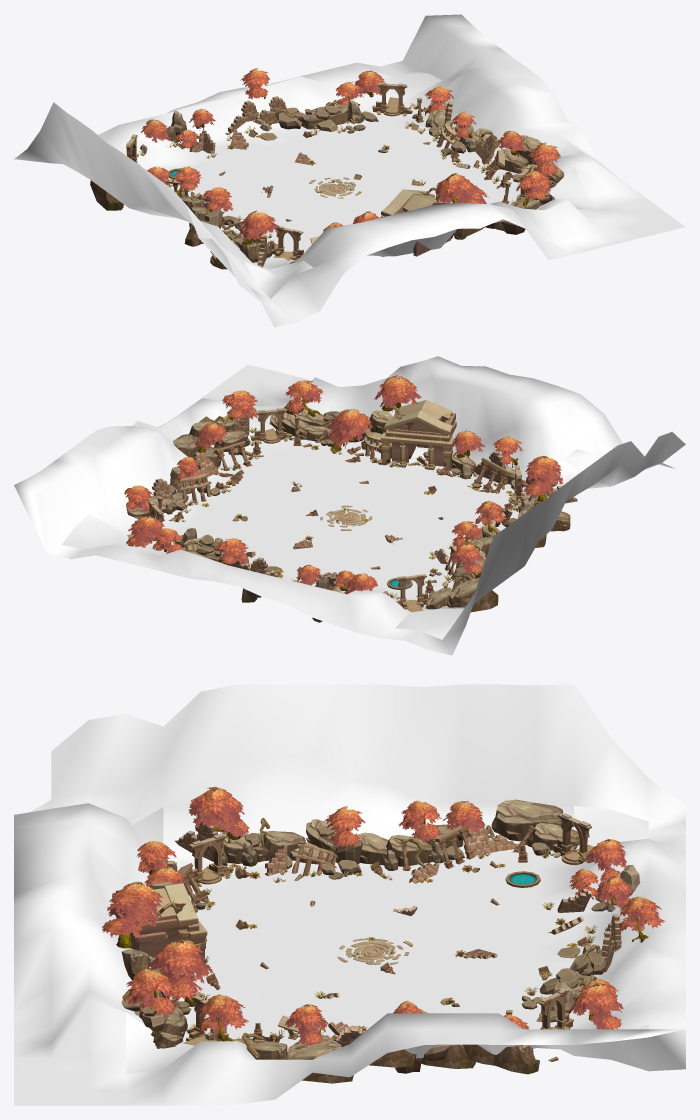
The model's file is YiJi.fbx.
The picture shows the model from 3 angles, top to bottom: view 1: azimuth 30°, elevation 25°; view 2: azimuth 150°, elevation 25°; view 3: azimuth 270°, elevation 25°; orthographic projection. The views are drawn at different scales.
Visible parts, largest first — view 1: YiJi_dixing_01, YiJi_jianzhu_01, YiJi_shu_01 (8), YiJi_shu_01 (1), YiJi_shimen_01 (3), YiJi_shu_02 (9), YiJi_shu_02 (3), YiJi_shimen_01 (2), YiJi_shu_02 (8), YiJi_yuanpan_01, YiJi_shu_02, YiJi_shitou_03 (4) (+3 smaller); view 2: YiJi_dixing_01, YiJi_jianzhu_01, YiJi_shu_01 (1), YiJi_shu_01 (5), YiJi_shu_01 (8), YiJi_shitou_03 (21), YiJi_shu_02 (9), YiJi_shimen_01 (1), YiJi_shu_01 (3), YiJi_shu_02 (3), YiJi_shimen_01 (4), YiJi_shu_01 (9) (+12 smaller); view 3: YiJi_dixing_01, YiJi_jianzhu_01, YiJi_shu_01 (8), YiJi_shu_01 (5), YiJi_shu_01 (1), YiJi_shitou_03 (21), YiJi_shu_02 (9), YiJi_shu_01 (3), YiJi_shu_02 (3), YiJi_shimen_01 (2), YiJi_shimen_01 (4), YiJi_shu_02 (8) (+20 smaller).
Boxes of the visible parts, <box> form: YiJi_dixing_01: <box>14,14,685,327</box>; YiJi_jianzhu_01: <box>379,189,450,256</box>; YiJi_shu_01 (8): <box>435,173,481,203</box>; YiJi_shu_01 (1): <box>239,210,279,244</box>; YiJi_shimen_01 (3): <box>372,82,412,116</box>; YiJi_shu_02 (9): <box>516,171,552,208</box>; YiJi_shu_02 (3): <box>527,142,560,175</box>; YiJi_shimen_01 (2): <box>272,226,303,260</box>; YiJi_shu_02 (8): <box>240,68,270,99</box>; YiJi_yuanpan_01: <box>309,177,361,198</box>; YiJi_shu_02: <box>203,187,233,214</box>; YiJi_shitou_03 (4): <box>301,104,348,129</box>; YiJi_dixing_01: <box>14,356,685,655</box>; YiJi_jianzhu_01: <box>380,400,456,470</box>; YiJi_shu_01 (1): <box>523,456,562,501</box>; YiJi_shu_01 (5): <box>326,409,372,451</box>; YiJi_shu_01 (8): <box>374,375,421,411</box>; YiJi_shitou_03 (21): <box>447,578,498,612</box>; YiJi_shu_02 (9): <box>285,380,322,418</box>; YiJi_shimen_01 (1): <box>250,408,292,443</box>; YiJi_shu_01 (3): <box>126,515,164,547</box>; YiJi_shu_02 (3): <box>222,390,257,421</box>; YiJi_shimen_01 (4): <box>396,574,428,612</box>; YiJi_shu_01 (9): <box>450,543,483,576</box>; YiJi_dixing_01: <box>14,684,685,1105</box>; YiJi_jianzhu_01: <box>111,881,207,968</box>; YiJi_shu_01 (8): <box>102,881,163,948</box>; YiJi_shu_01 (5): <box>147,939,213,1006</box>; YiJi_shu_01 (1): <box>188,787,249,842</box>; YiJi_shitou_03 (21): <box>491,799,563,841</box>; YiJi_shu_02 (9): <box>122,968,176,1015</box>; YiJi_shu_01 (3): <box>570,983,623,1029</box>; YiJi_shu_02 (3): <box>198,994,249,1041</box>; YiJi_shimen_01 (2): <box>189,833,233,886</box>; YiJi_shimen_01 (4): <box>553,813,594,865</box>; YiJi_shu_02 (8): <box>619,896,665,942</box>.
Bounding box in the file's own units: 106 × 24.57 × 100.
